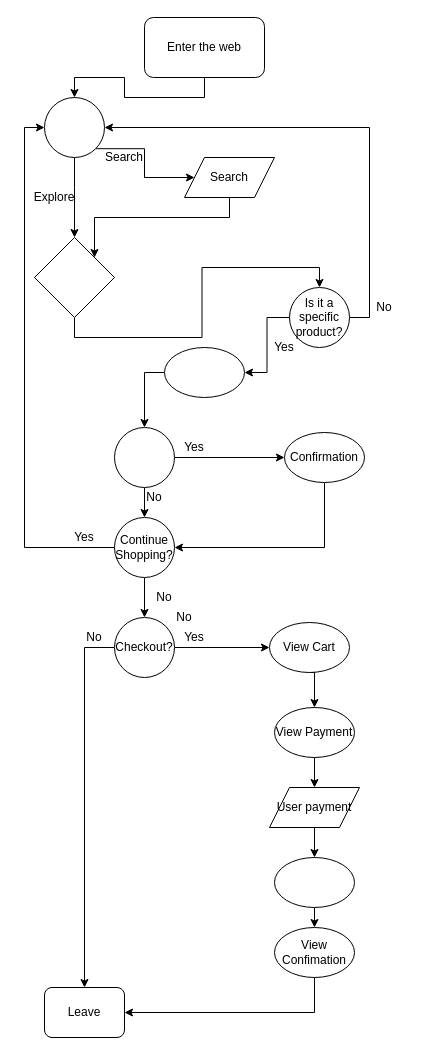
This 422x1055 diagram has some shape labels left out. Here are the shapes that lost their labels. From the top down, the centre of each, then its label:
point (74, 127): Search or Explore Product
point (74, 277): Look over products
point (204, 372): Open webpage
point (144, 457): add to cart?
point (314, 882): Send email Confirmation
